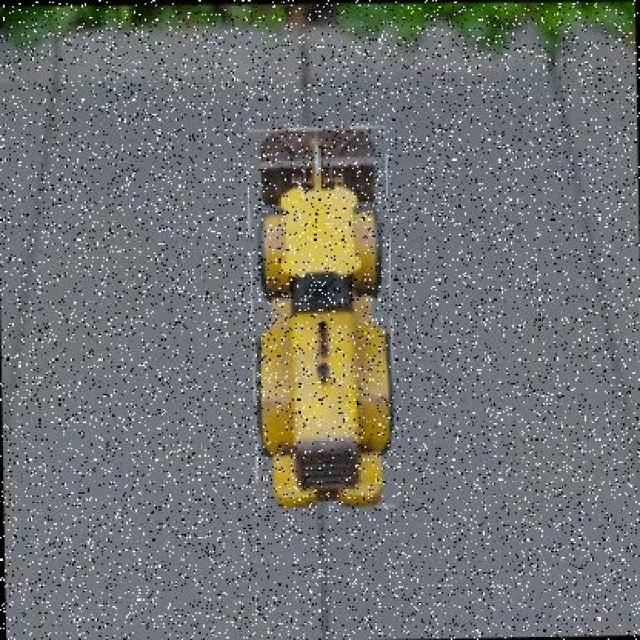buldozerpayloadergrader: (249, 128, 393, 506)
